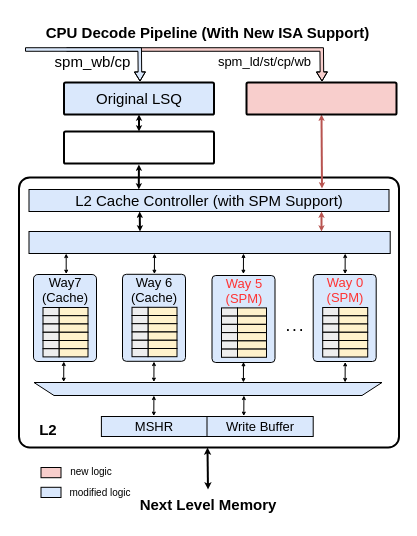
The diagram is 417 pixels wide and 536 high, and some of its shapes have lost their labels. Each missing label, with the centre of its shape:
"Inter-way Interconnect/Arbiter" belongs at (209,242).
"L1 Data Cache" belongs at (138,147).
"SPM LSQ" belongs at (321,98).
